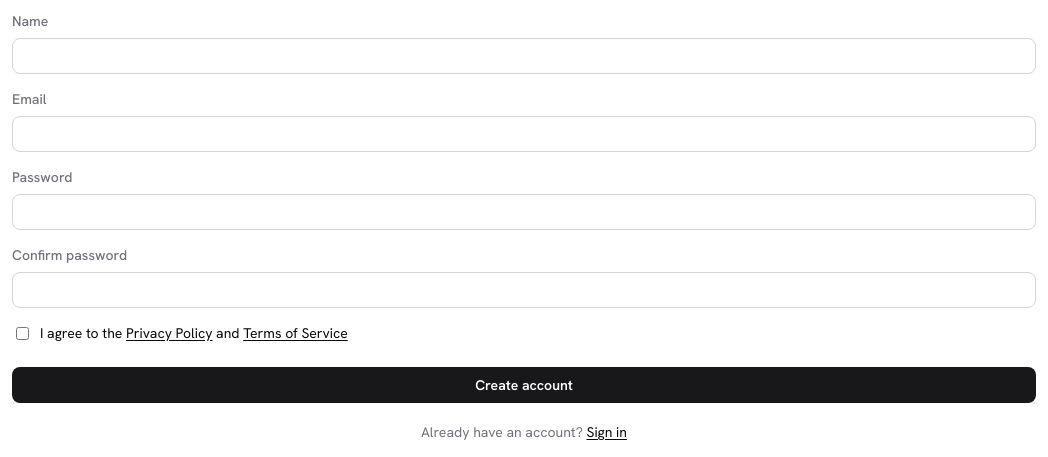
Test: the sign-up form, while the address is not verified › points to the inbox when the server made no session, and asks for the link to land on sign-in
Type "Ada Lovelace" into the field labelled "Name" at coordinates (524, 56), box [12,38,1036,74]
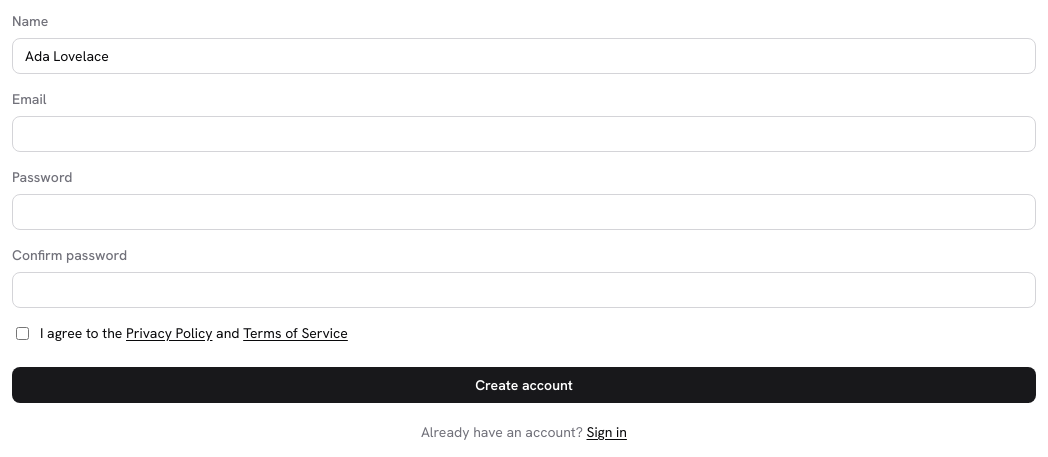
Type "ada@sovereign.local" into the field labelled "Email" at coordinates (524, 134), box [12,116,1036,152]
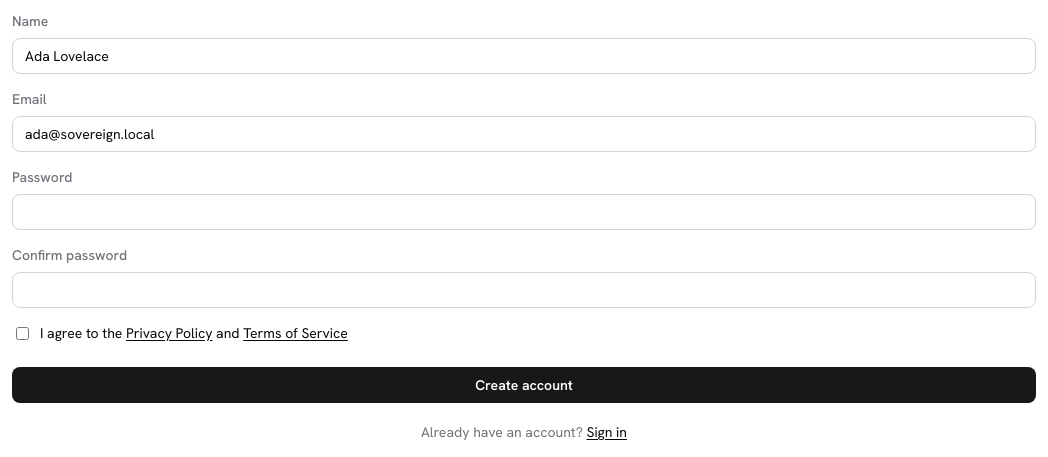
Type "correct horse battery" into the password field labelled "Password" at coordinates (524, 212), box [12,194,1036,230]
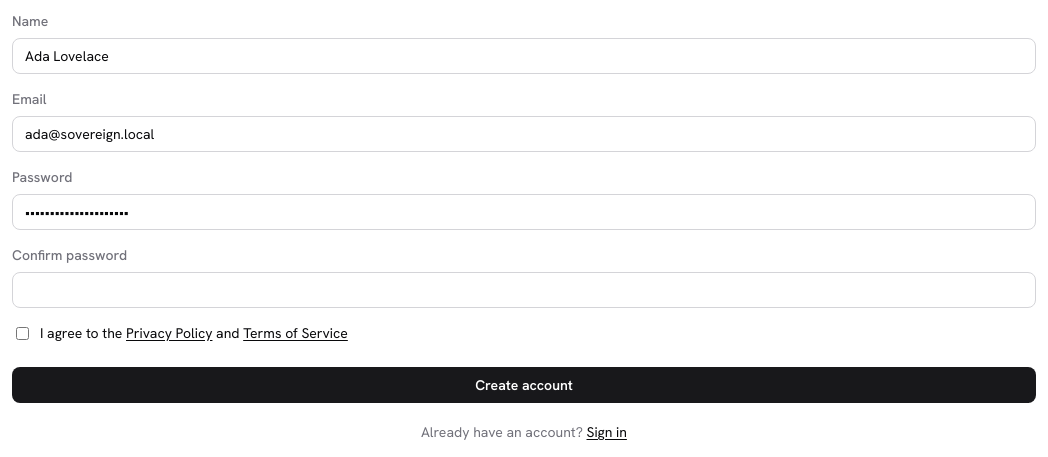
Type "correct horse battery" into the password field labelled "Confirm password" at coordinates (524, 290), box [12,272,1036,308]
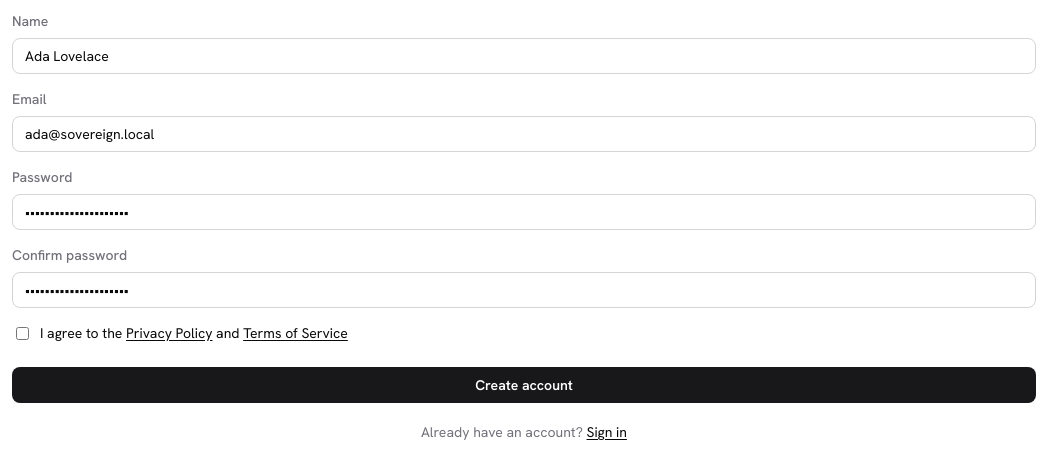
Click the checkbox labelled "I agree to the Privacy Policy and Terms of Service" at coordinates (22, 334), box [16,327,29,340]
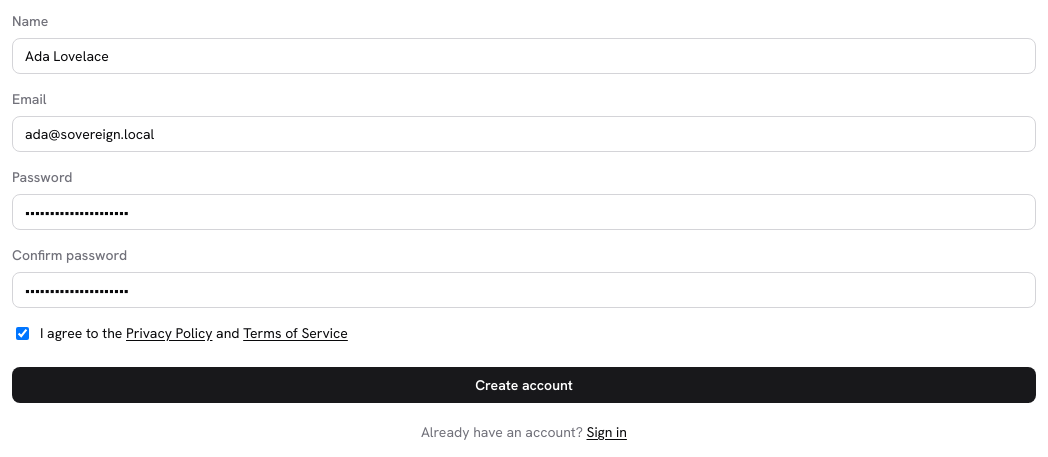
Click the button "Create account" at coordinates (524, 385), box [12,367,1036,403]
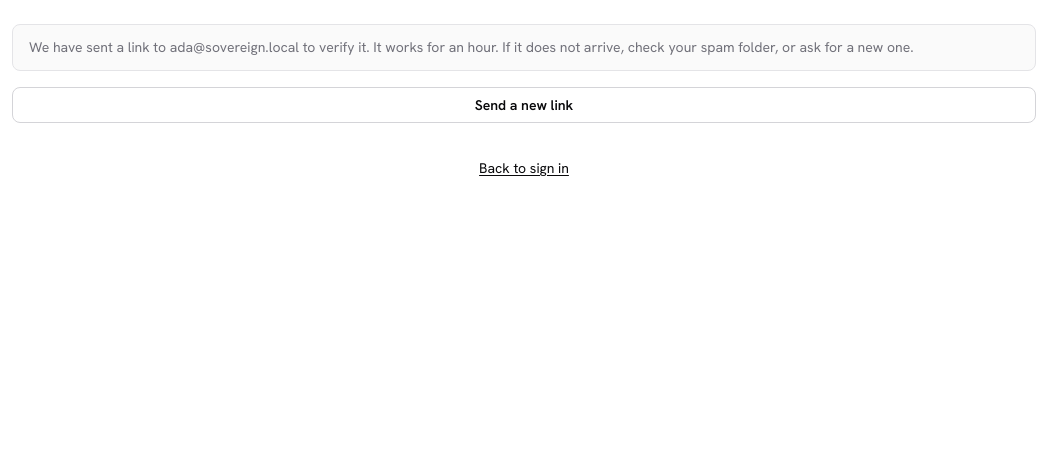
Expected: the text "We have sent a link to ada@sovereign.local" is shown, [29,37,1019,58]
Expected: the label labelled "Password" is gone
Expected: the link "Back to sign in" is shown, [479,159,569,177]
